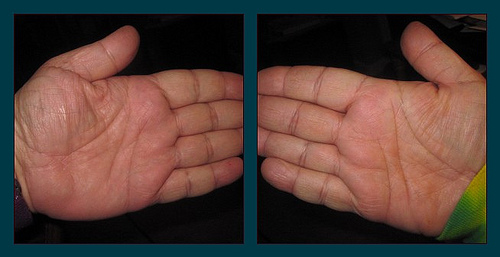palm: (24, 73, 199, 214), (355, 69, 473, 230)
